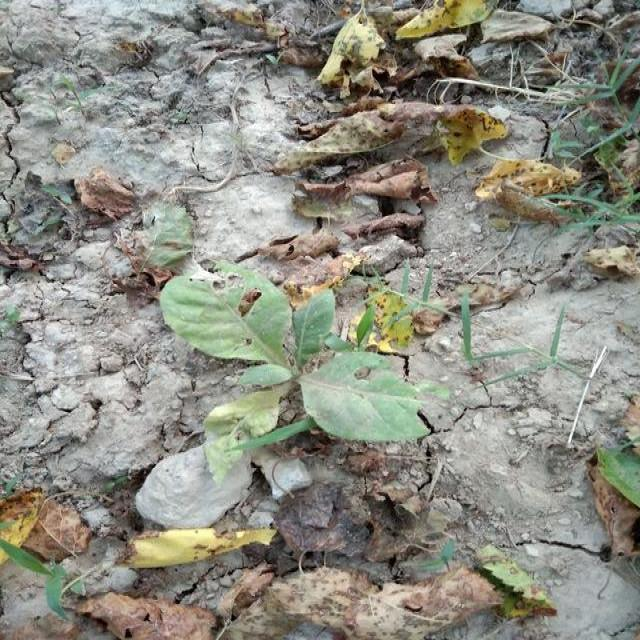crop: (150, 236, 440, 494)
